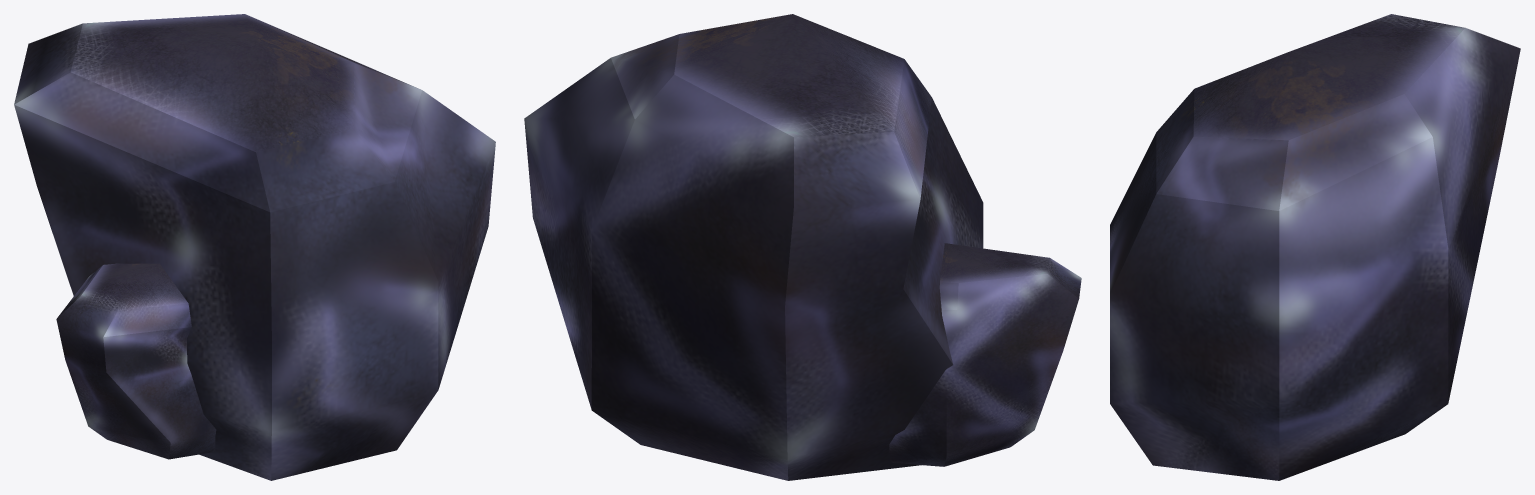
File: 3. MetalOre.fbx
3 views of the same model, side by side, from view 1: azimuth 30°, elevation 25°; view 2: azimuth 150°, elevation 25°; view 3: azimuth 270°, elevation 25° (orthographic). The views are drawn at different scales.
Parts seen in each view (by area): view 1: pCylinder15; view 2: pCylinder15; view 3: pCylinder15.
Part boxes in pixels (bbox=[...]): pCylinder15: bbox=[14, 14, 495, 480]; pCylinder15: bbox=[524, 14, 1081, 480]; pCylinder15: bbox=[1110, 14, 1520, 480].
Size of the model in its own units: 1.9 by 1.48 by 1.46.
Materials: 1 (1 with a texture image).
